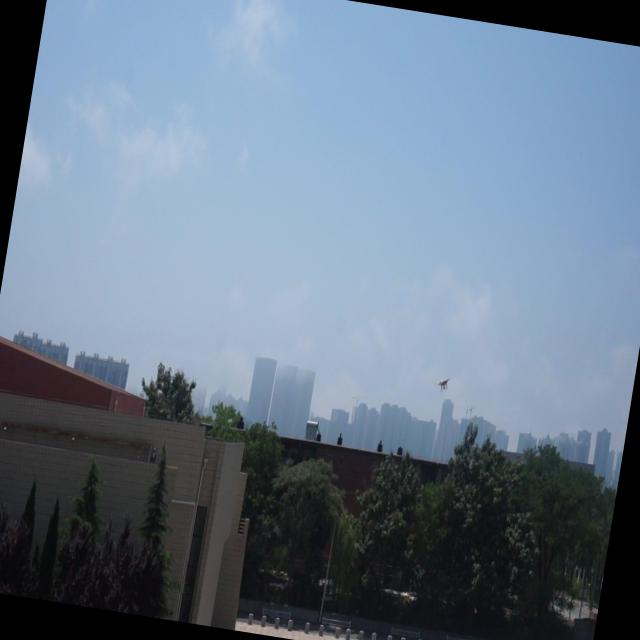drone: (436, 371, 454, 396)
